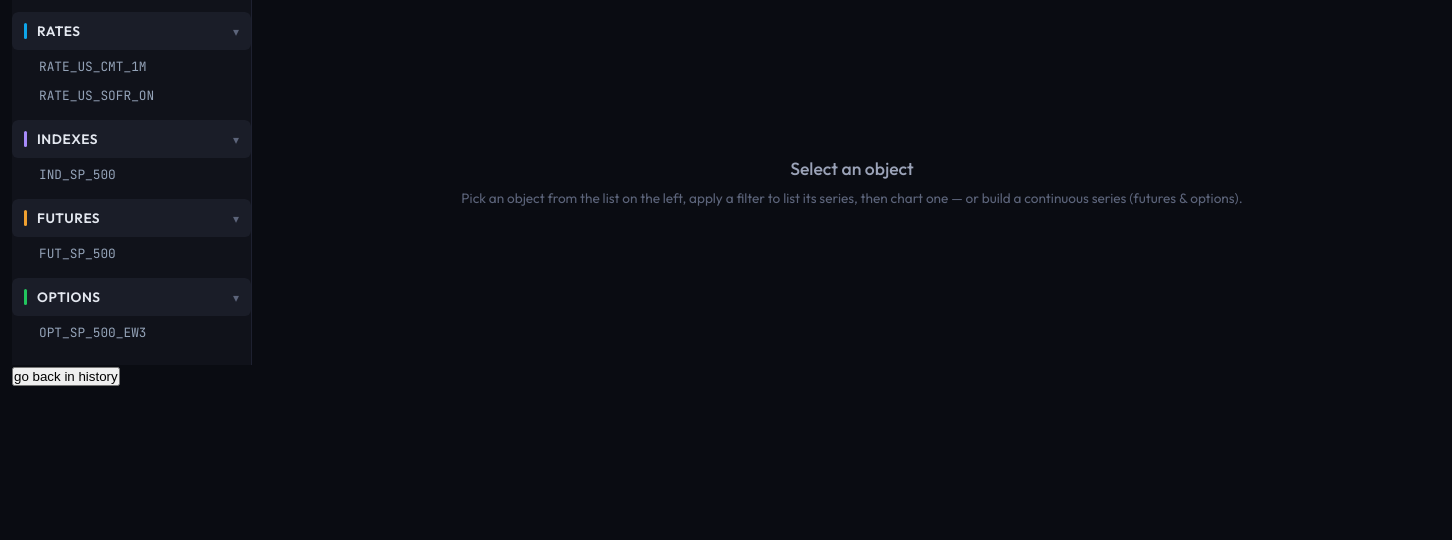
Test: DataV2Page › shows the filter panel and fetches nothing until Apply
The width and height of the screenshot is (1452, 540).
Step 1. Click the button "OPT_SP_500_EW3" → (132, 332), box left=12, top=318, right=251, bottom=347
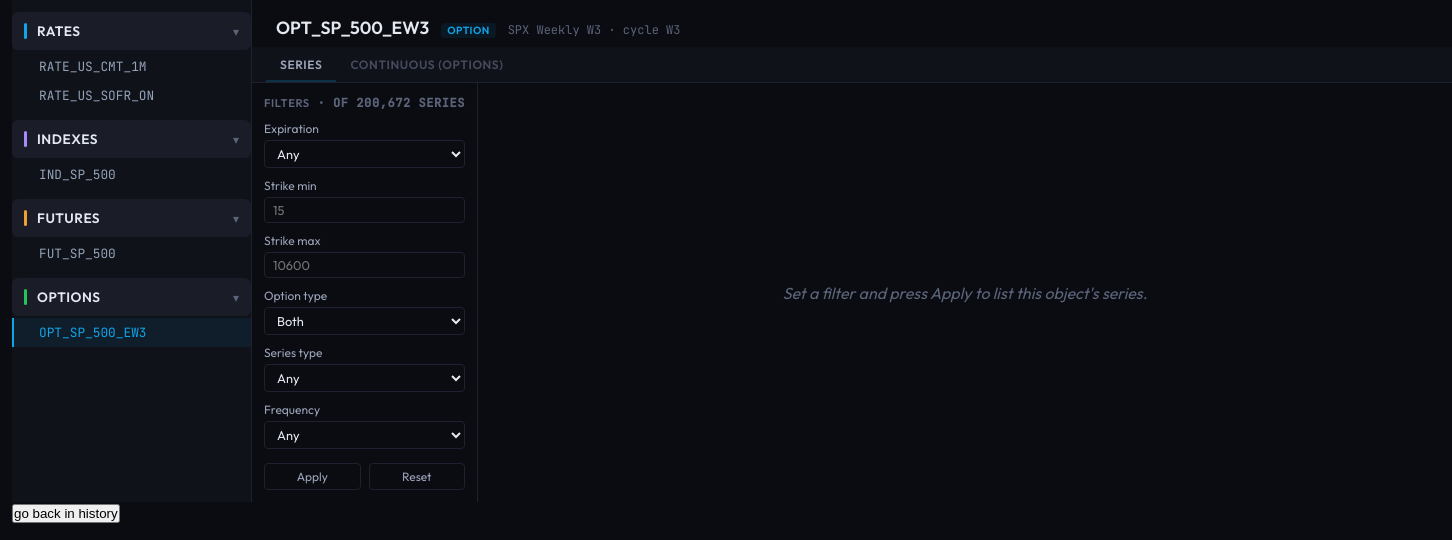
Expected: the text "Filters · of 200,672 series" is shown, left=264, top=95, right=465, bottom=111
Expected: the text "Set a filter and press Apply to list this object's series." is shown, left=783, top=282, right=1147, bottom=302
